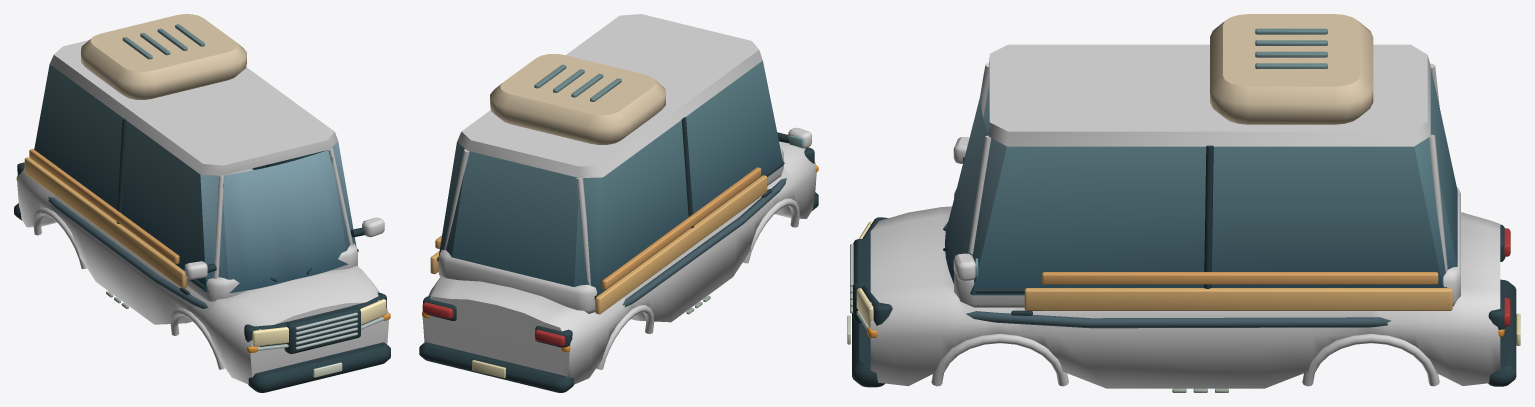
Rendered from courier.glb.
3 views of the same model, side by side, from view 1: azimuth 30°, elevation 25°; view 2: azimuth 150°, elevation 25°; view 3: azimuth 270°, elevation 25° (orthographic). The views are drawn at different scales.
Parts seen in each view (by area): view 1: Chassis, Headlamps; view 2: Chassis, BrakeLamps; view 3: Chassis.
Part boxes in pixels (x1=…): Chassis: x1=14, y1=14, x2=390, y2=392; Headlamps: x1=252, y1=299, x2=386, y2=346; Chassis: x1=419, y1=14, x2=818, y2=392; BrakeLamps: x1=422, y1=302, x2=565, y2=346; Chassis: x1=847, y1=14, x2=1520, y2=392.
Bounding box in the file's own units: 2.03 × 2.17 × 4.45.
